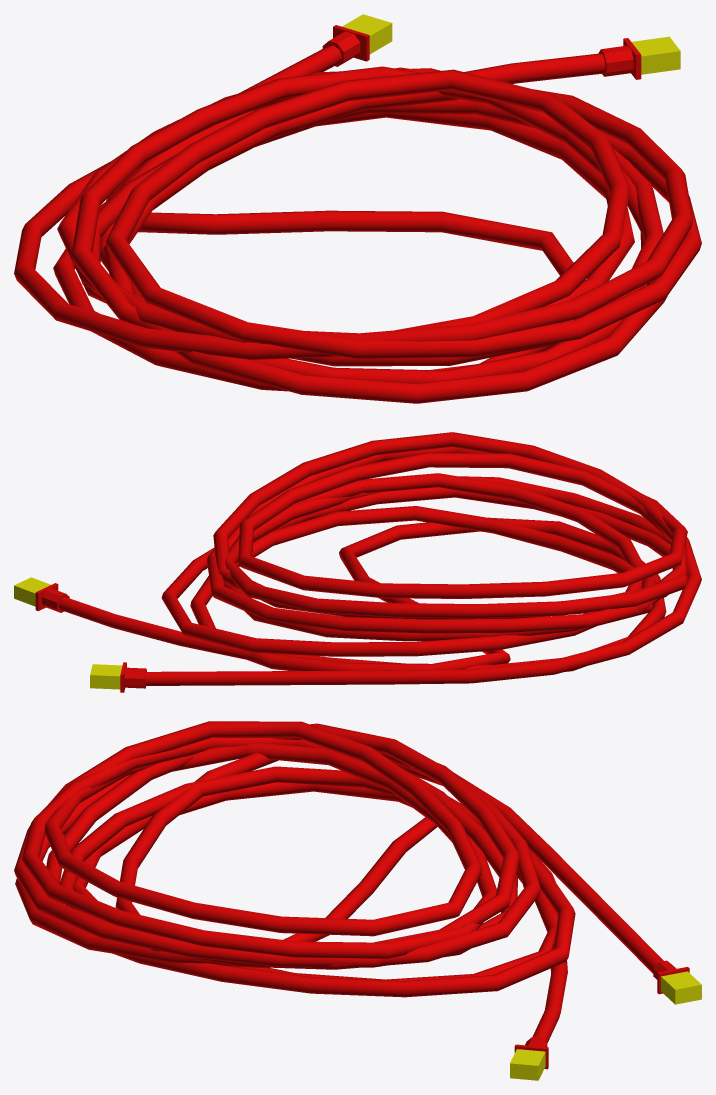
Rendered from Folded Cable 1.fbx.
3 renders of one model, top to bottom at view 1: azimuth 30°, elevation 25°; view 2: azimuth 150°, elevation 25°; view 3: azimuth 270°, elevation 25°, orthographic. The views are drawn at different scales.
Visible parts, largest first — view 1: Ethernet Cable 1.002; view 2: Ethernet Cable 1.002; view 3: Ethernet Cable 1.002.
Part boxes in pixels (bbox=[...]): Ethernet Cable 1.002: bbox=[14, 14, 701, 403]; Ethernet Cable 1.002: bbox=[14, 432, 701, 692]; Ethernet Cable 1.002: bbox=[14, 721, 701, 1080].
Size of the model in its own units: 35.09 by 4.6 by 33.21.
